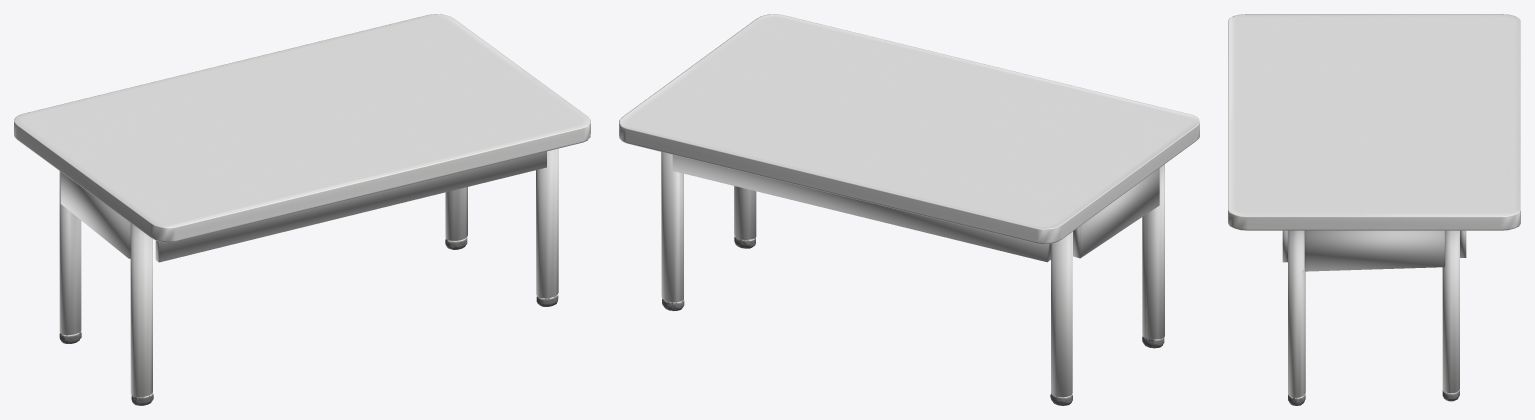
Rendered from small_table.glb.
3 views of the same model, side by side, from view 1: azimuth 30°, elevation 25°; view 2: azimuth 150°, elevation 25°; view 3: azimuth 270°, elevation 25° (orthographic). The views are drawn at different scales.
Visible parts, largest first — view 1: tripo_node_0b22ef47-ddaf-46aa-99ee-747b119de095; view 2: tripo_node_0b22ef47-ddaf-46aa-99ee-747b119de095; view 3: tripo_node_0b22ef47-ddaf-46aa-99ee-747b119de095.
Part boxes in pixels (bbox=[...]): tripo_node_0b22ef47-ddaf-46aa-99ee-747b119de095: bbox=[14, 14, 590, 405]; tripo_node_0b22ef47-ddaf-46aa-99ee-747b119de095: bbox=[619, 14, 1199, 405]; tripo_node_0b22ef47-ddaf-46aa-99ee-747b119de095: bbox=[1228, 14, 1520, 405].
Bounding box in the file's own units: 0.9 × 0.4 × 0.55.
Materials: 1 (1 with a texture image).
